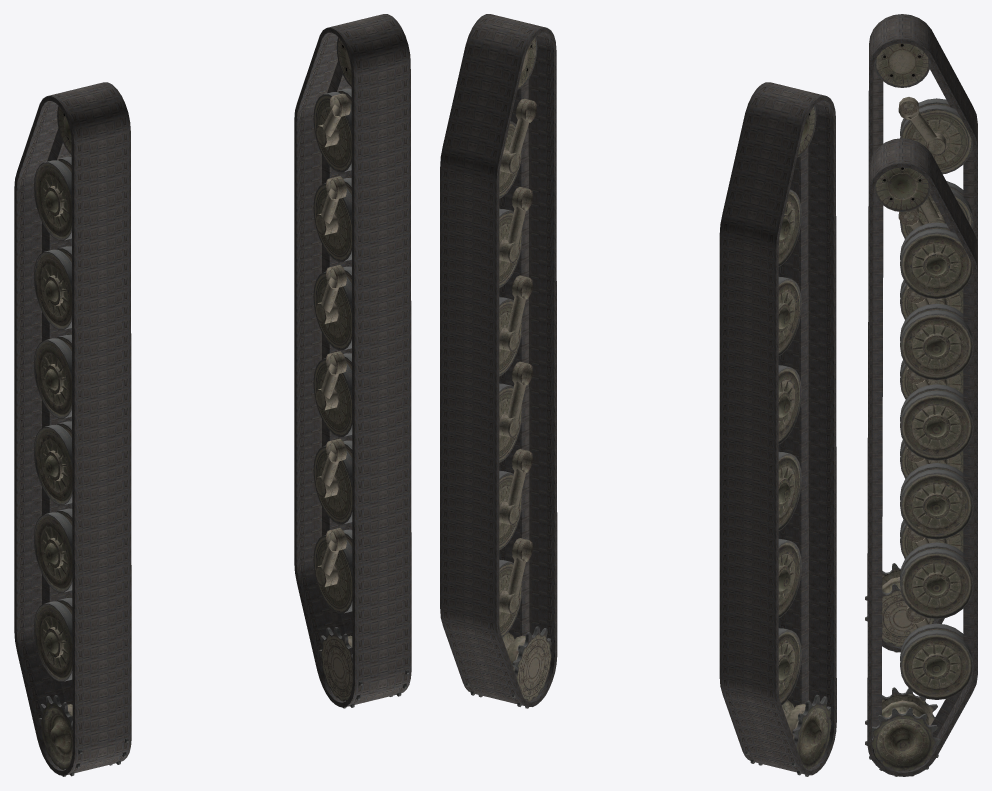
File: Chassis.glb
The picture shows the model from 3 angles, left to right: view 1: azimuth 30°, elevation 25°; view 2: azimuth 150°, elevation 25°; view 3: azimuth 270°, elevation 25°; orthographic projection. The views are drawn at different scales.
Visible parts, largest first — view 1: set_0_group_0, set_1_group_0, set_2_group_0, set_3_group_0; view 2: set_0_group_0, set_1_group_0, set_2_group_0, set_3_group_0; view 3: set_2_group_0, set_1_group_0, set_3_group_0, set_0_group_0.
Boxes of the visible parts, bbox=[...] form: set_0_group_0: bbox=[14, 82, 131, 775]; set_1_group_0: bbox=[294, 14, 411, 707]; set_2_group_0: bbox=[313, 37, 408, 708]; set_3_group_0: bbox=[34, 106, 128, 776]; set_0_group_0: bbox=[719, 82, 836, 775]; set_1_group_0: bbox=[440, 14, 557, 706]; set_2_group_0: bbox=[465, 37, 551, 708]; set_3_group_0: bbox=[745, 106, 831, 776]; set_2_group_0: bbox=[865, 167, 973, 776]; set_1_group_0: bbox=[867, 138, 977, 776]; set_3_group_0: bbox=[865, 43, 973, 652]; set_0_group_0: bbox=[867, 14, 977, 652].
Size of the model in its own units: 3.44 by 6.52 by 1.08.
4 materials, 4 textured.
